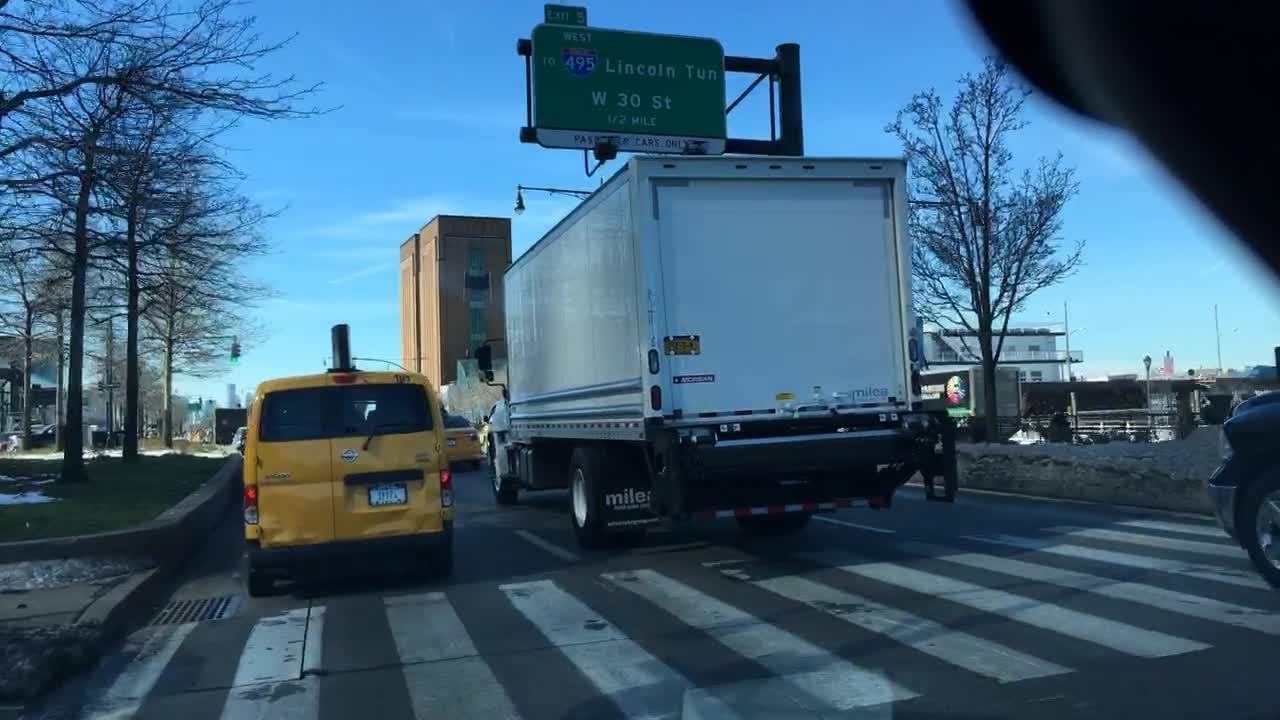Nissan: (336, 443, 363, 465)
